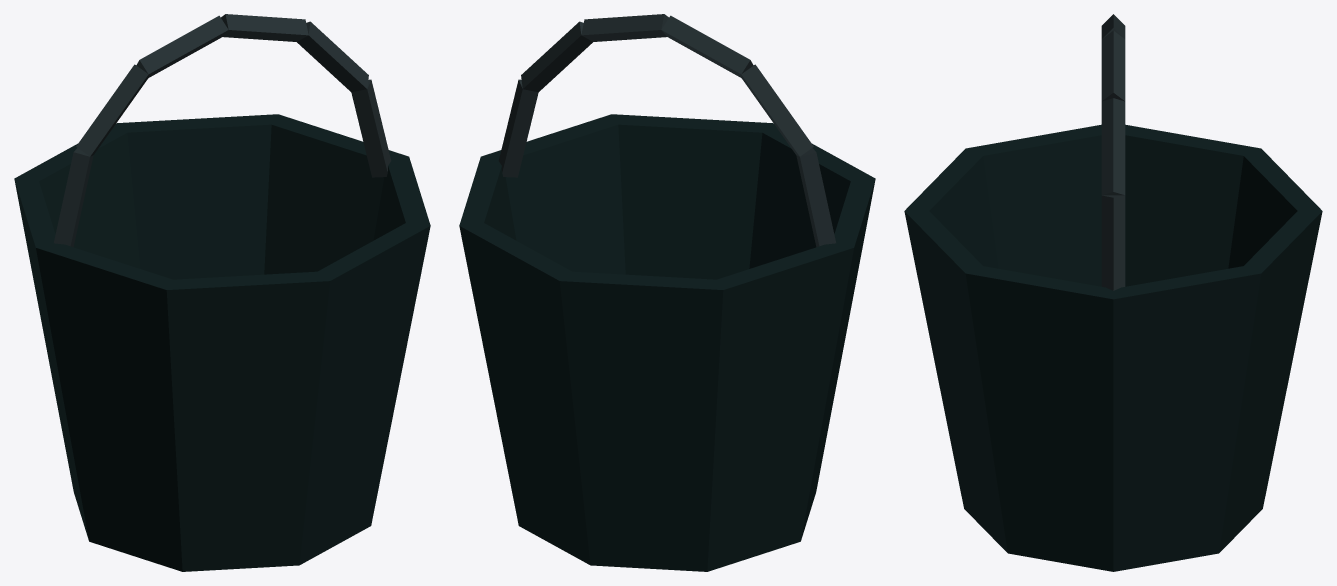
Rendered from Extra_Bucket_01.fbx.
3 views of the same model, side by side, from view 1: azimuth 30°, elevation 25°; view 2: azimuth 150°, elevation 25°; view 3: azimuth 270°, elevation 25° (orthographic). The views are drawn at different scales.
Parts seen in each view (by area): view 1: Extra_Bucket_01_Mesh; view 2: Extra_Bucket_01_Mesh; view 3: Extra_Bucket_01_Mesh.
Part boxes in pixels (<box>): Extra_Bucket_01_Mesh: <box>14,14,430,571</box>; Extra_Bucket_01_Mesh: <box>459,14,875,571</box>; Extra_Bucket_01_Mesh: <box>904,14,1322,571</box>.
Bounding box in the file's own units: 0.42 × 0.5315 × 0.42.
Materials: 1 (1 with a texture image).
